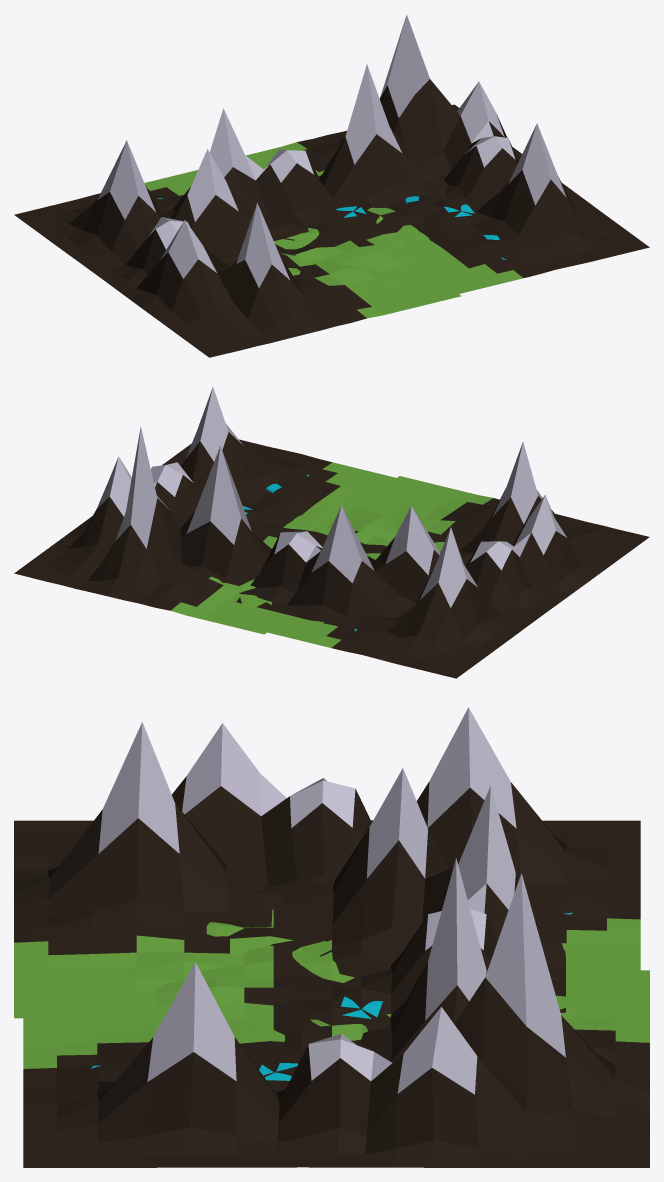
The model's file is MountValley1.obj.
The picture shows the model from 3 angles, top to bottom: view 1: azimuth 30°, elevation 25°; view 2: azimuth 150°, elevation 25°; view 3: azimuth 270°, elevation 25°; orthographic projection. The views are drawn at different scales.
Visible parts, largest first — view 1: Sahne_Plane; view 2: Sahne_Plane; view 3: Sahne_Plane.
Part boxes in pixels (box(x1,y1,x2,y2)): Sahne_Plane: box(14, 14, 649, 357); Sahne_Plane: box(14, 387, 649, 678); Sahne_Plane: box(14, 707, 649, 1167).
Bounding box in the file's own units: 27.86 × 8.49 × 21.57.
